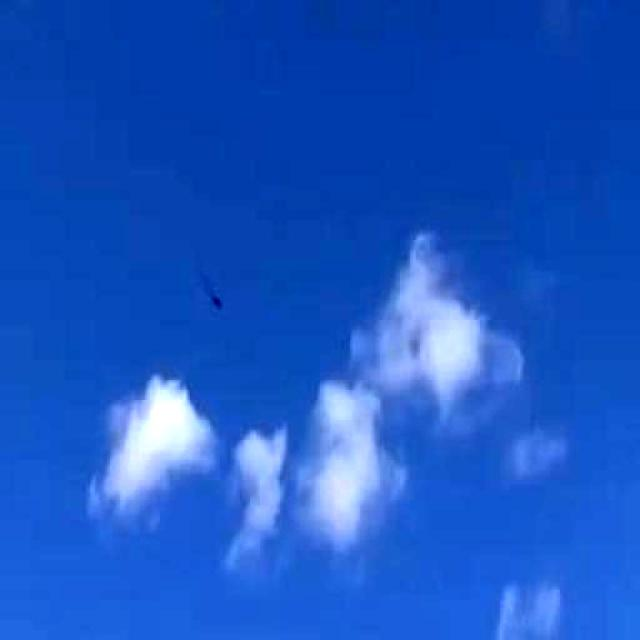drone: (172, 248, 242, 326)
